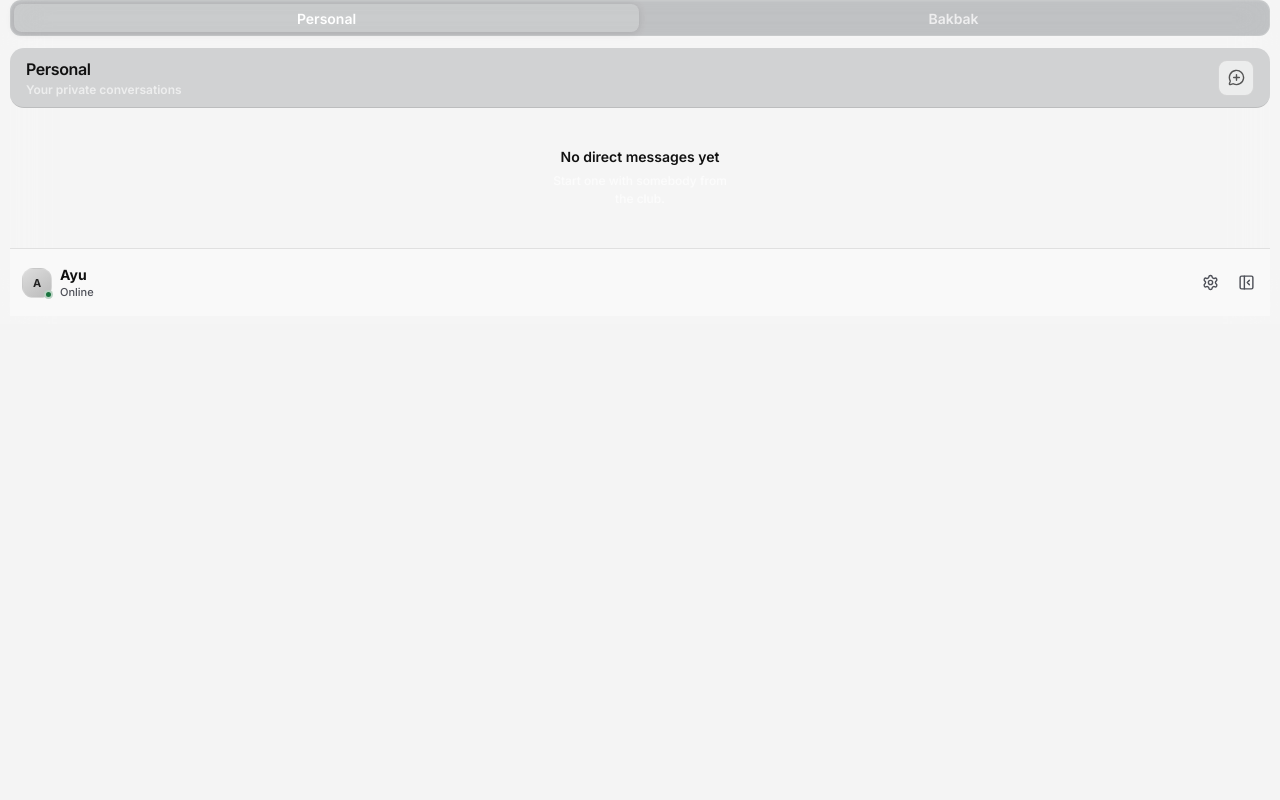
Test: PersonalSidebar member picker › opens without overflowing names and closes on an outside pointer
Click the button named "New message" at (1236, 78), box left=1218, top=60, right=1254, bottom=96
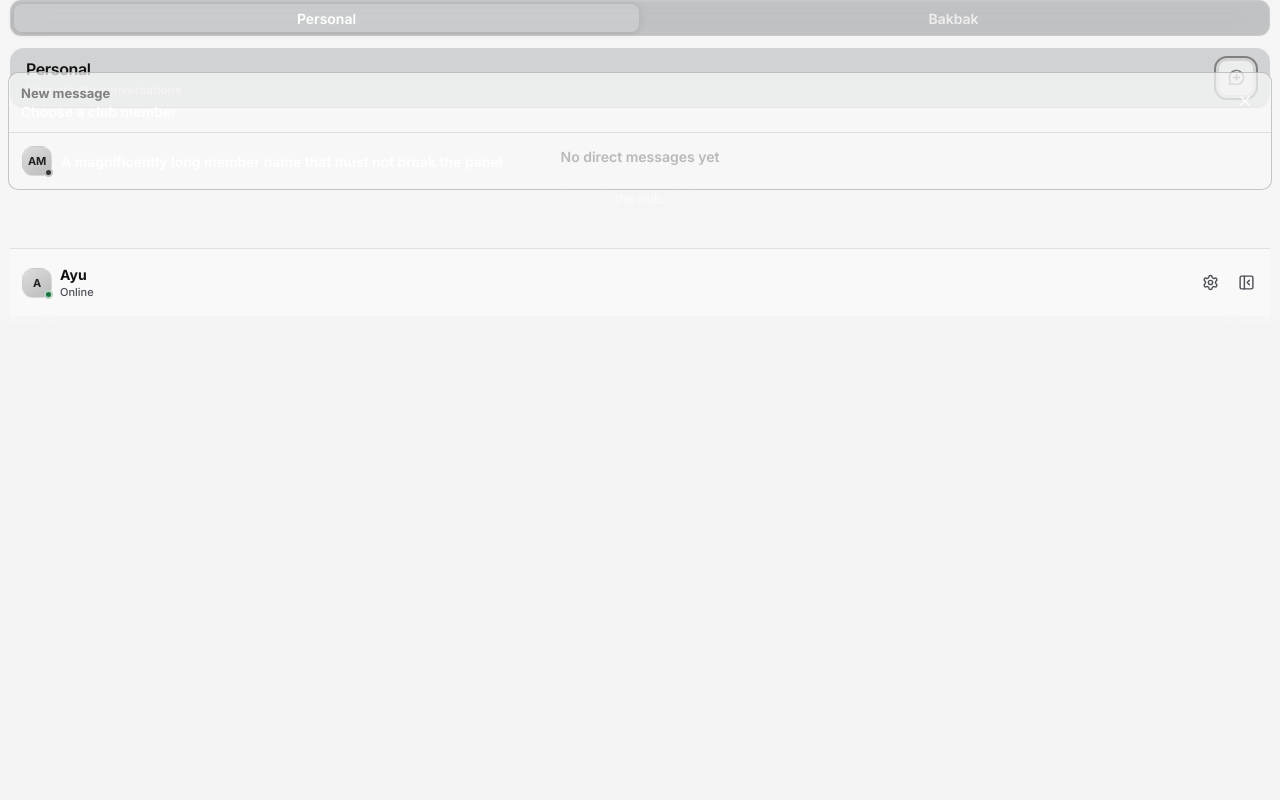
Expected: the dialog "Choose a club member" is shown, left=8, top=72, right=1272, bottom=190
Expected: the button "A magnificently long member name that must not break the panel" is shown, left=15, top=139, right=1265, bottom=183
Press the mouse on the element that starts with "Personal" at (640, 400), box left=0, top=0, right=1279, bottom=799
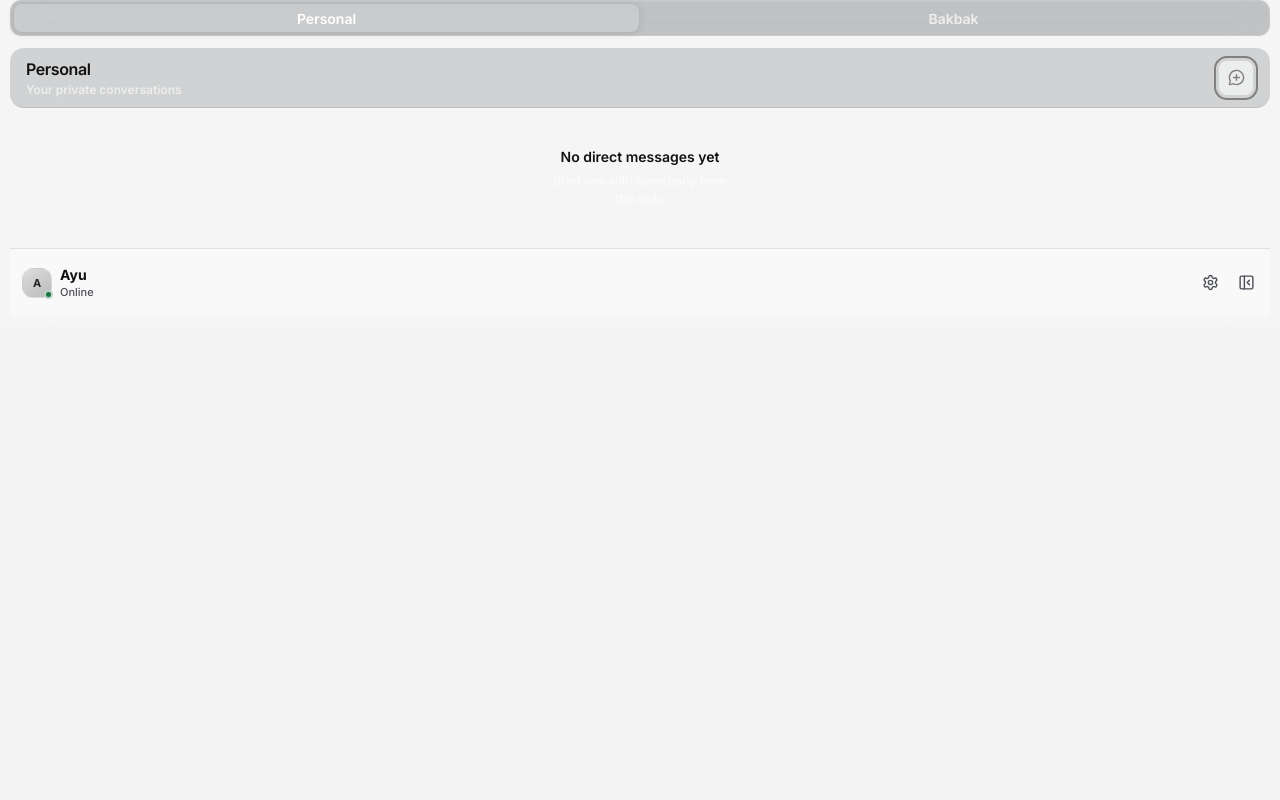
Expected: the text "Choose a club member" is gone
